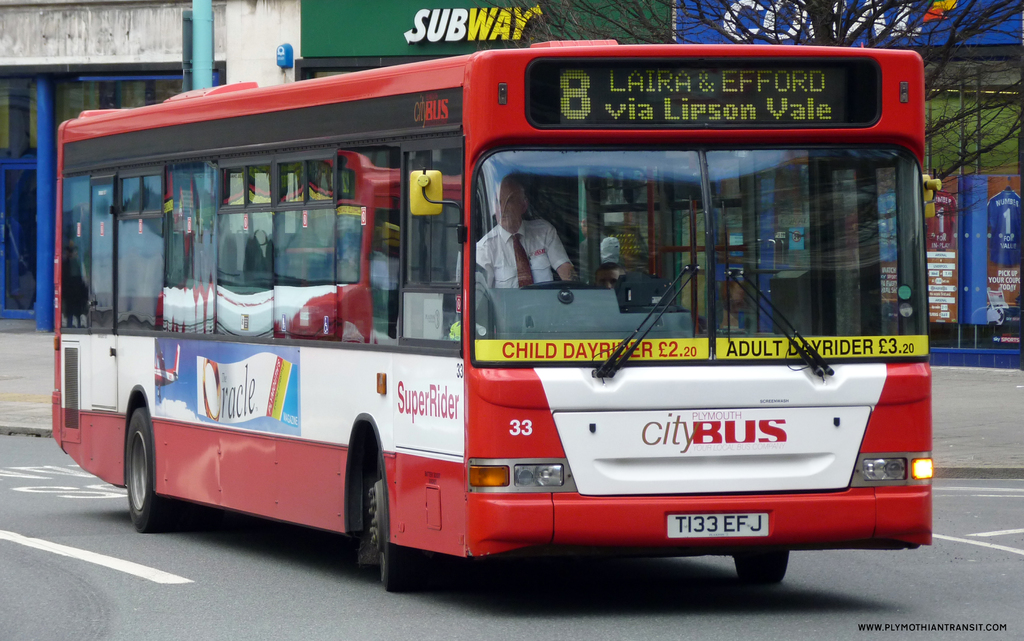Bus: (49, 34, 936, 593)
